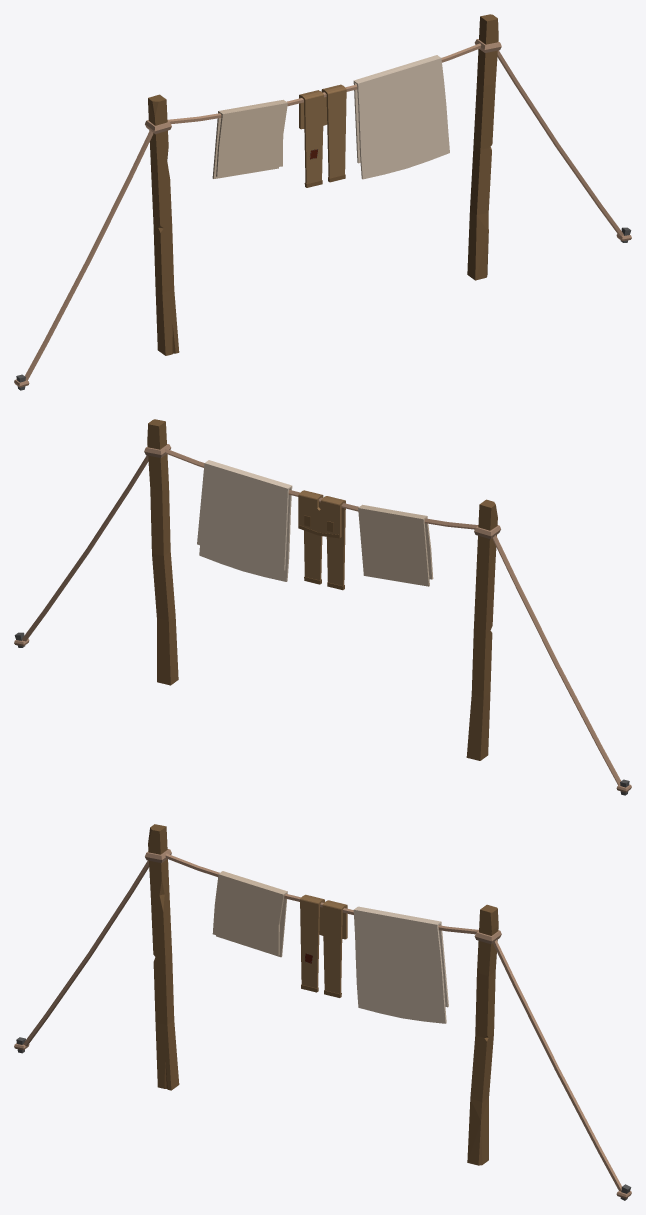
File: Mesh_Props_Dryer_01.FBX
3 renders of one model, top to bottom at view 1: azimuth 30°, elevation 25°; view 2: azimuth 150°, elevation 25°; view 3: azimuth 330°, elevation 25°, orthographic.
Parts seen in each view (by area): view 1: Mesh_Props_Dryer_01; view 2: Mesh_Props_Dryer_01; view 3: Mesh_Props_Dryer_01.
Boxes of the visible parts, box(x1,y1,x2,y2) form: Mesh_Props_Dryer_01: box(14, 14, 631, 390); Mesh_Props_Dryer_01: box(14, 419, 631, 795); Mesh_Props_Dryer_01: box(14, 824, 631, 1200).
Bounding box in the file's own units: 198 × 79.52 × 5.57.
